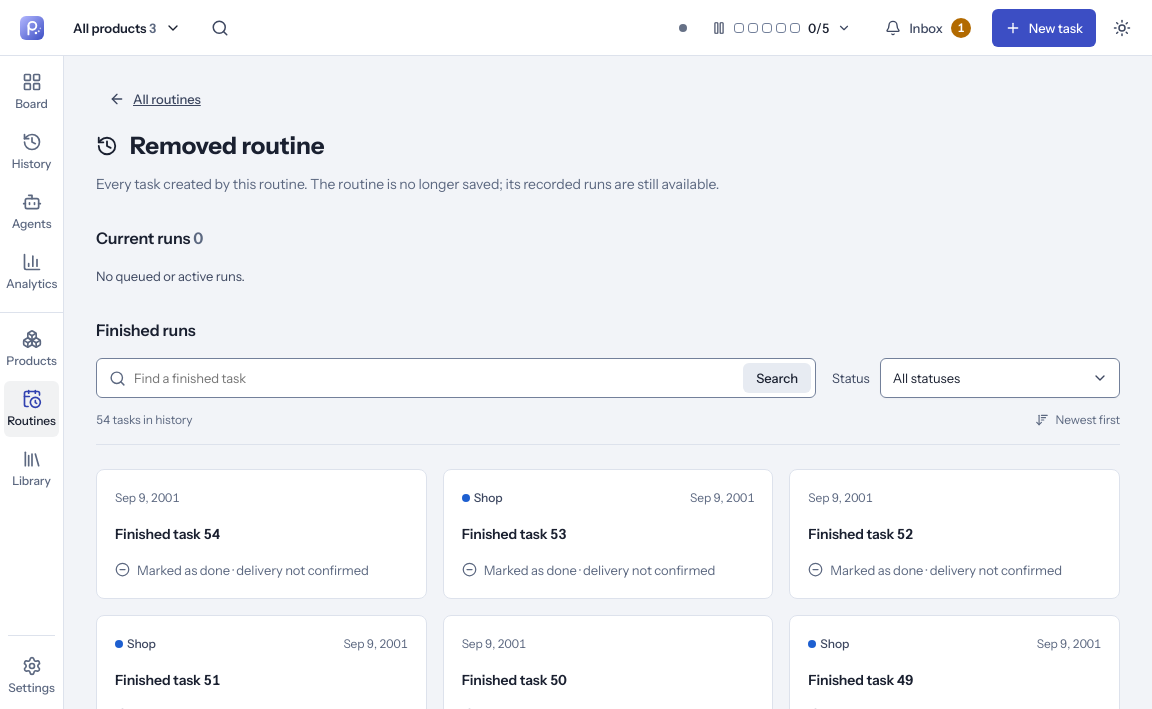
Test case: opens an unrelated Inbox task from routine runs without substituting the routine list
Step 1. Click the button "Inbox 1" → (928, 28), box [872,8,984,46]
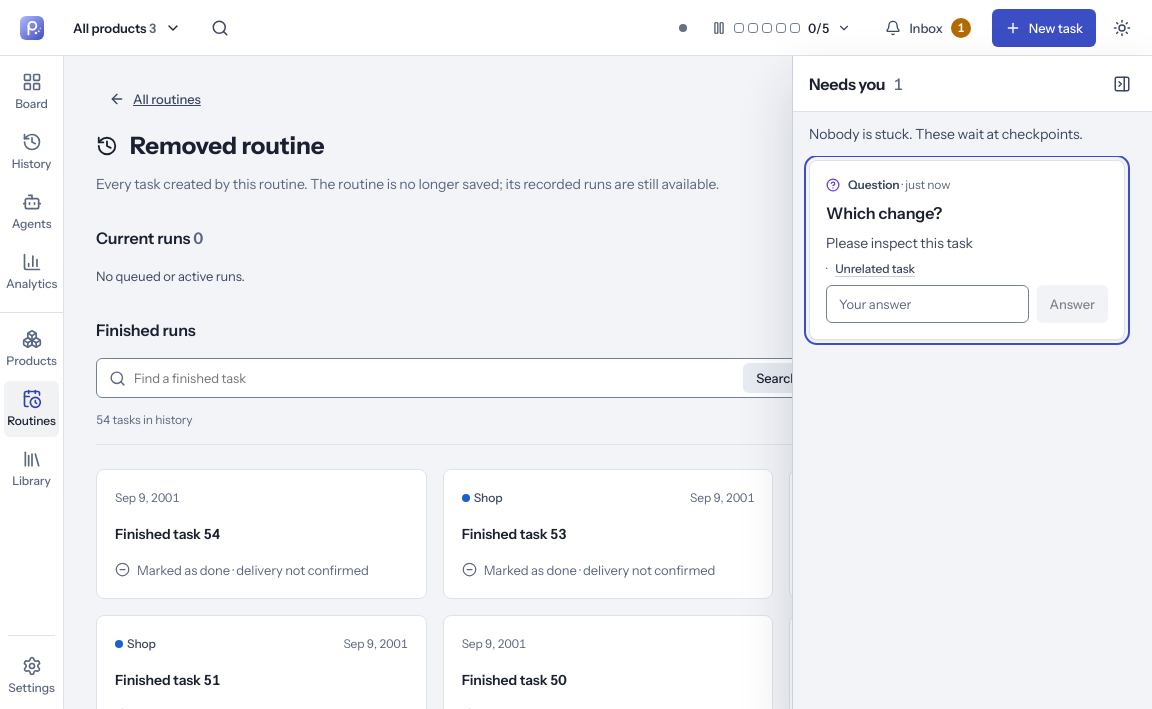
Step 2. Click the button with class "task-link" → (875, 269), box [835,261,915,277]
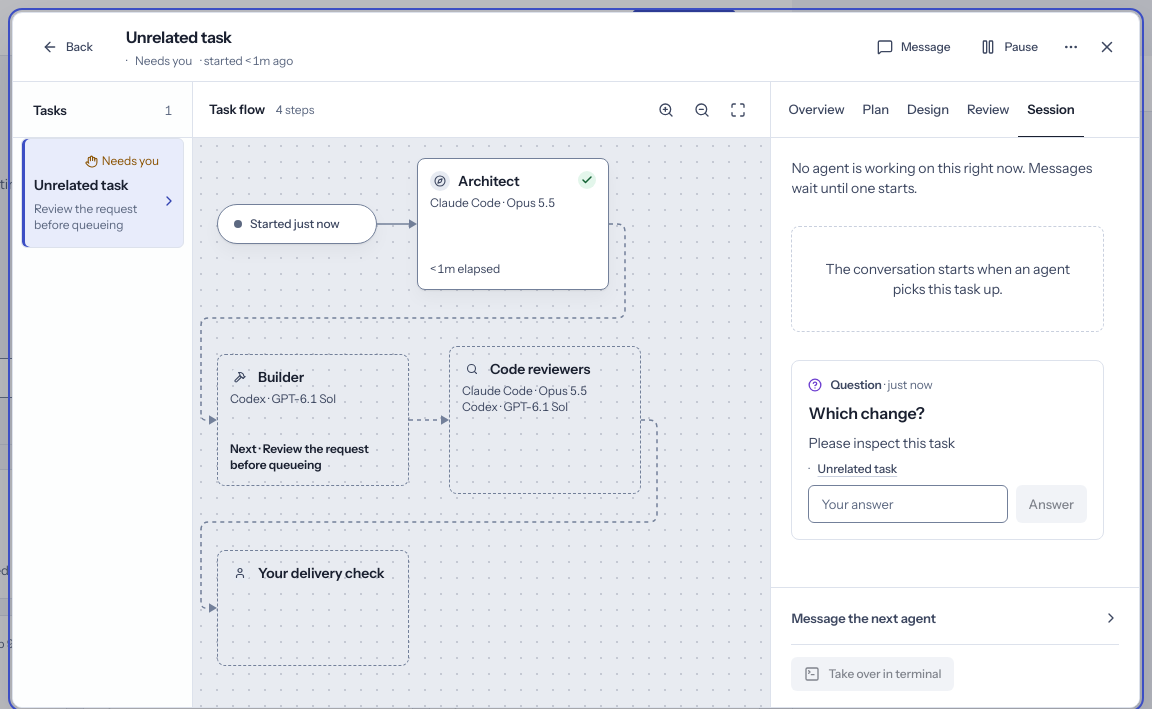
Now the heading with class "sheet-title" reads "Unrelated task", box [126,27,232,47]
